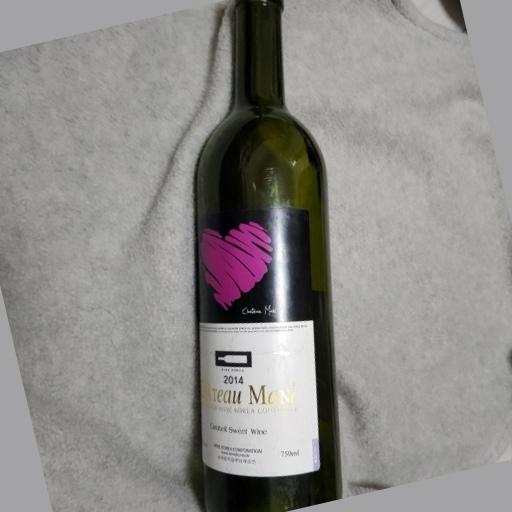Glass_2: (185, 1, 349, 512)
